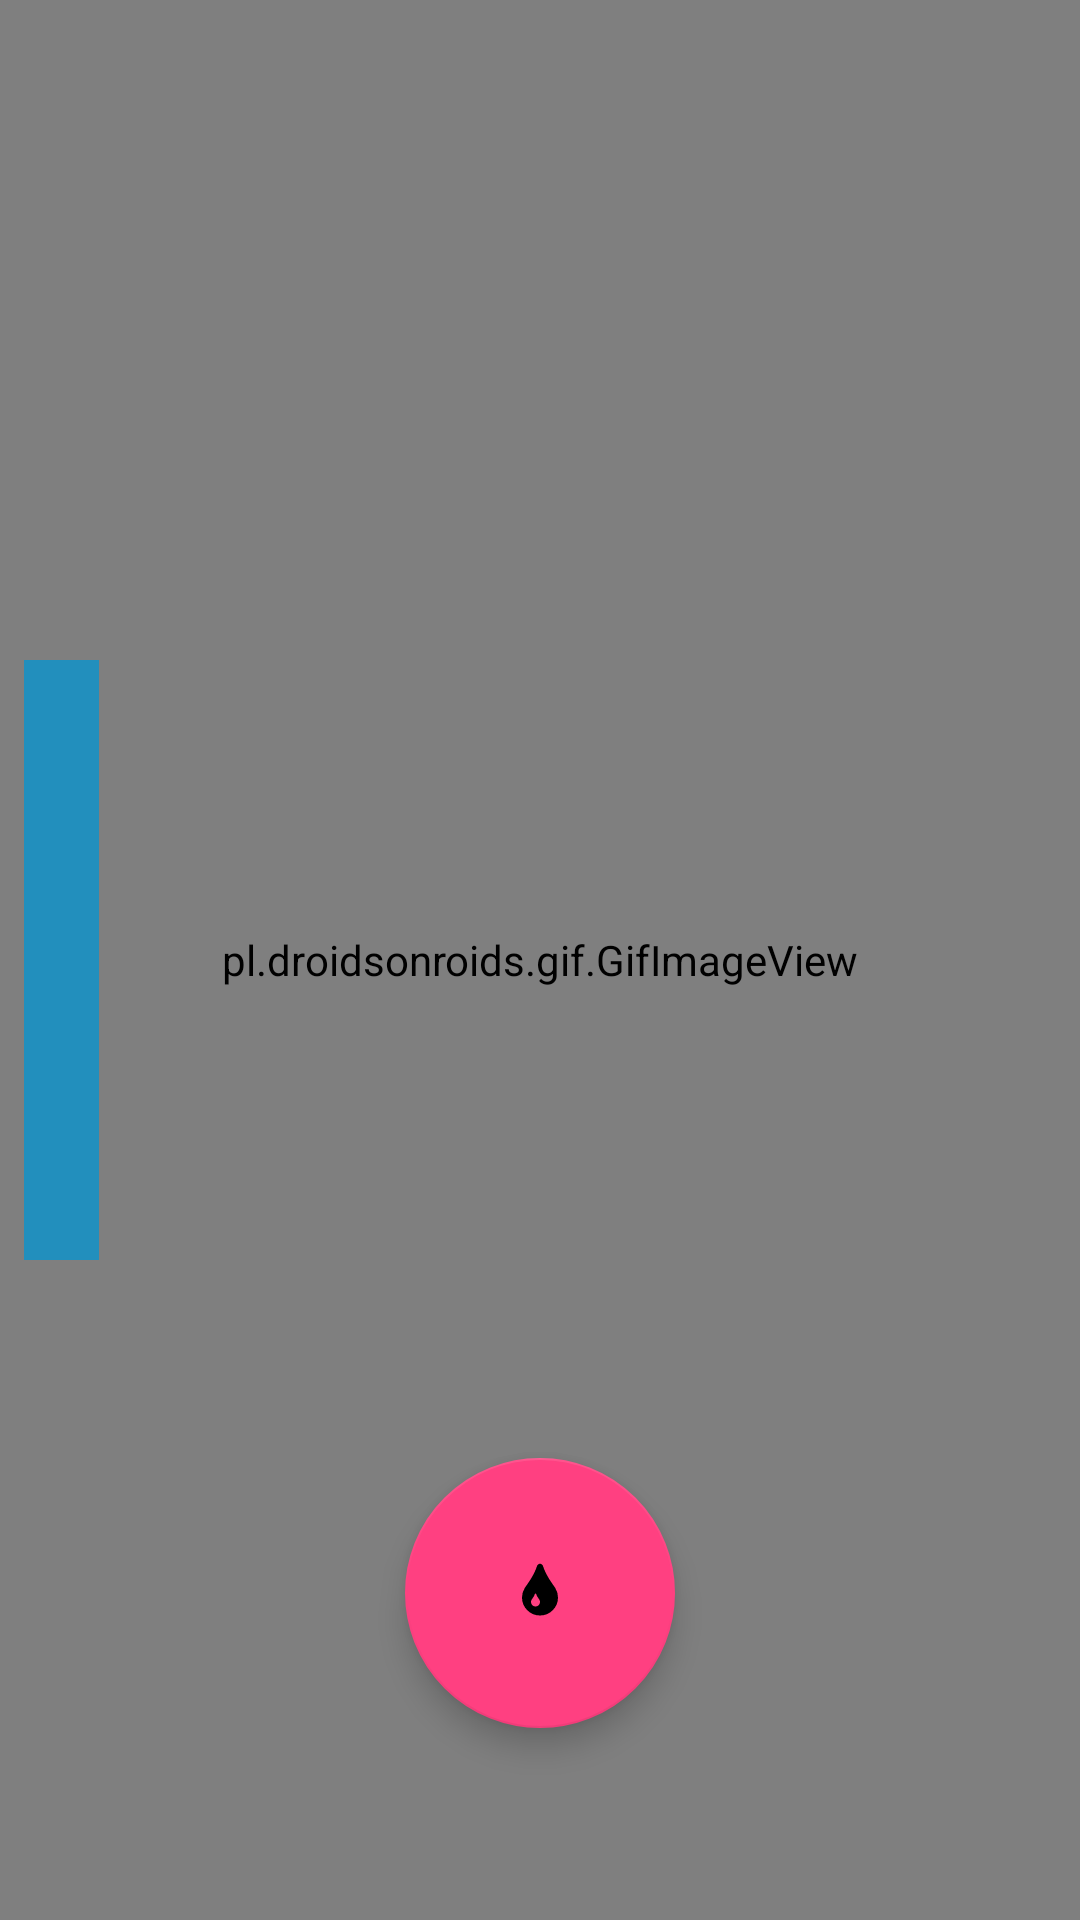

Icons on this 1080px x 1920px Android screen, each with its box as (x1, y1, x2, y2):
tint: (405, 1458, 675, 1728)
